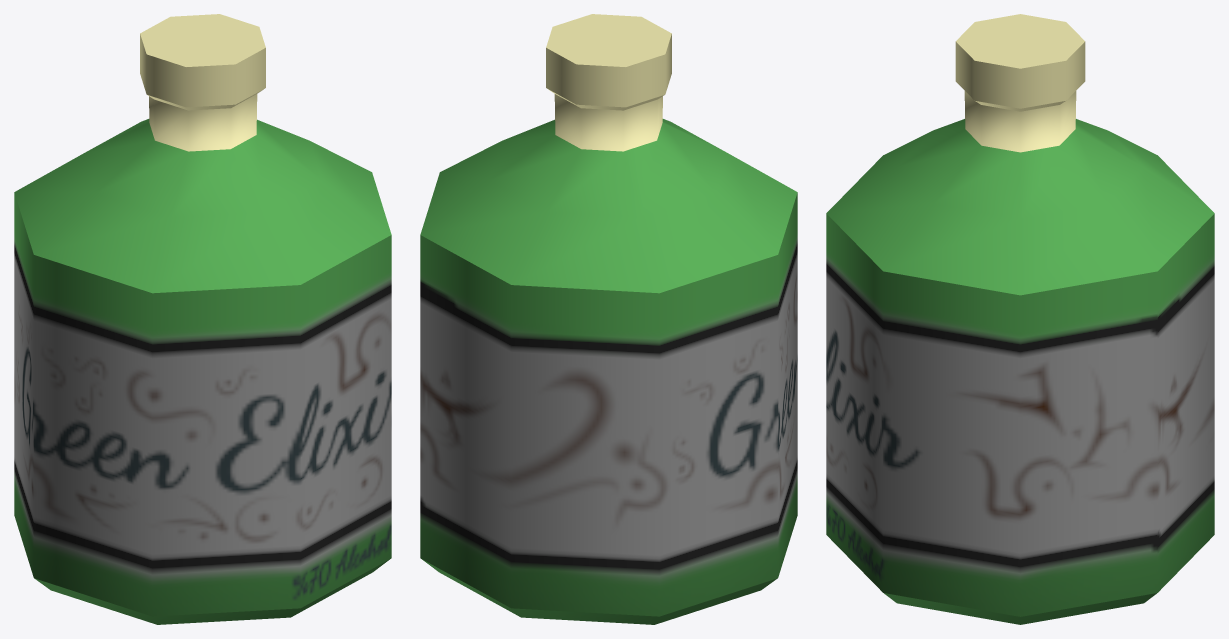
File: Liquor_01.fbx
The picture shows the model from 3 angles, left to right: view 1: azimuth 30°, elevation 25°; view 2: azimuth 150°, elevation 25°; view 3: azimuth 270°, elevation 25°; orthographic projection.
Visible parts, largest first — view 1: Liquor_01; view 2: Liquor_01; view 3: Liquor_01.
Boxes of the visible parts, x1,y1,x2,y2 form: Liquor_01: (14,14,391,624); Liquor_01: (420,14,797,624); Liquor_01: (826,14,1214,624).
Bounding box in the file's own units: 12.4 × 17.95 × 12.4.
